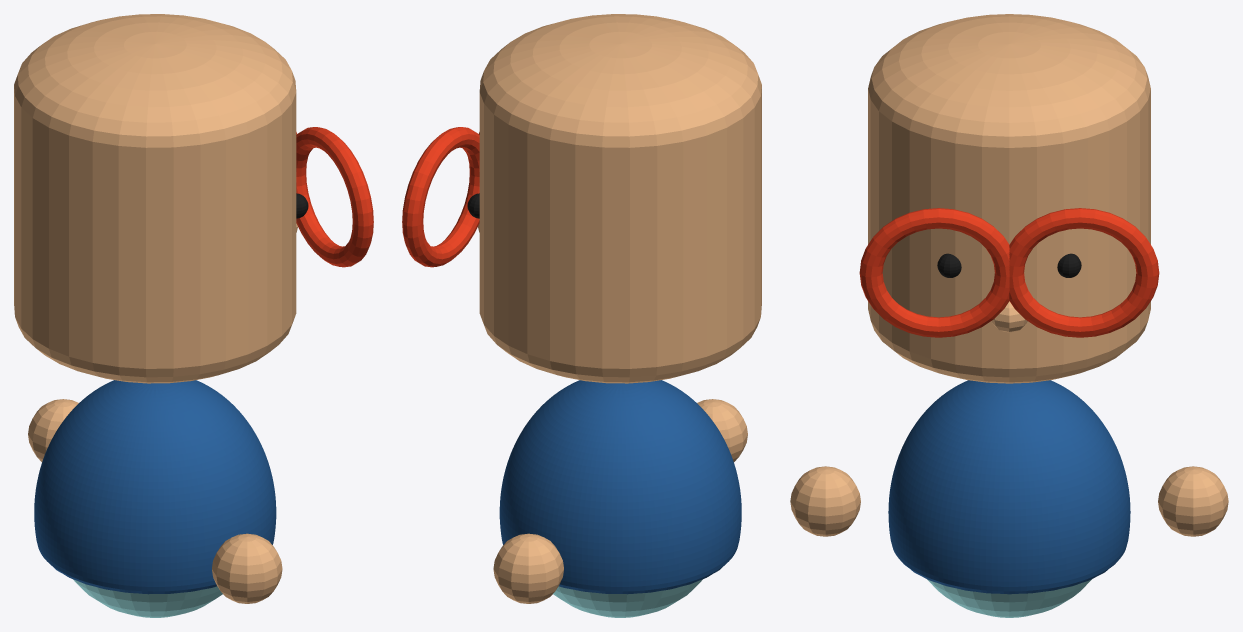
File: character.gltf
3 renders of one model, left to right at view 1: azimuth 30°, elevation 25°; view 2: azimuth 150°, elevation 25°; view 3: azimuth 270°, elevation 25°, orthographic.
Visible parts, largest first — view 1: face, body, Torus, left hand, bottom, right hand; view 2: face, body, Torus.001, right hand, bottom, left hand; view 3: face, body, Torus, Torus.001, left hand, right hand, bottom.
Part boxes in pixels (<box>): face: <box>14,14,297,383</box>; body: <box>34,380,276,594</box>; Torus: <box>296,127,373,267</box>; left hand: <box>212,533,282,603</box>; bottom: <box>73,579,222,617</box>; right hand: <box>28,399,78,461</box>; face: <box>478,14,761,383</box>; body: <box>499,380,741,594</box>; Torus.001: <box>402,127,479,267</box>; right hand: <box>493,533,563,603</box>; bottom: <box>553,579,702,617</box>; left hand: <box>697,399,747,461</box>; face: <box>868,14,1150,383</box>; body: <box>888,380,1130,594</box>; Torus: <box>859,208,1009,337</box>; Torus.001: <box>1009,208,1159,337</box>; left hand: <box>790,466,860,536</box>; right hand: <box>1158,466,1228,536</box>; bottom: <box>927,579,1091,617</box>.
Bounding box in the file's own units: 4.41 × 8.8 × 6.2.
